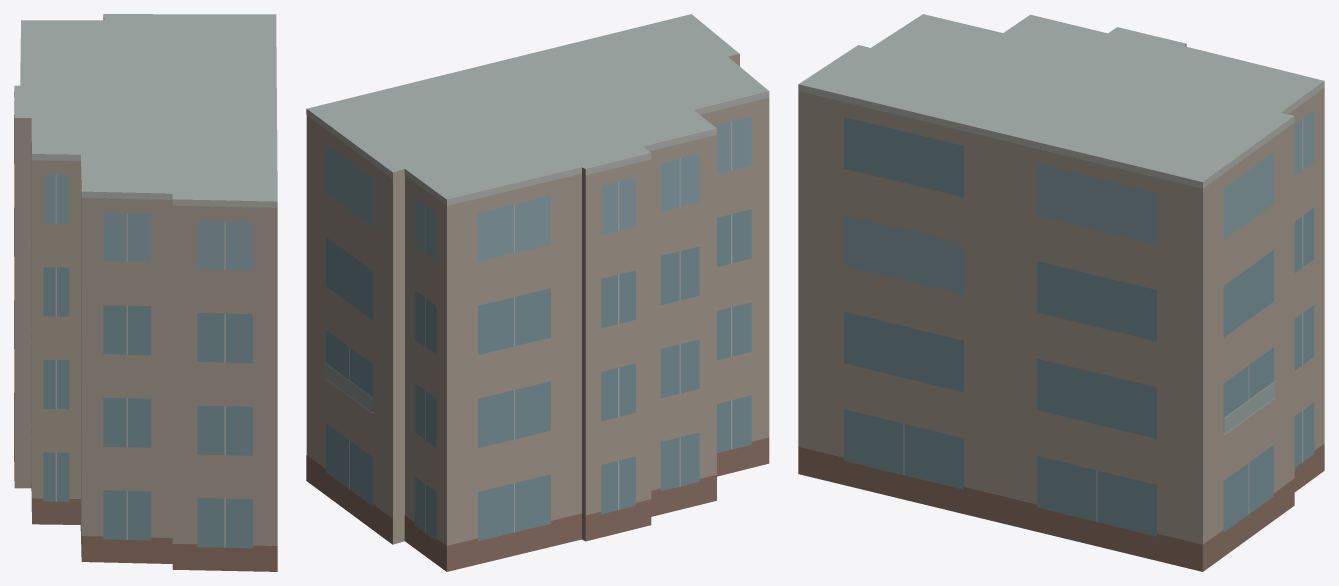
File: survey-upis-32512790.glb
3 views of the same model, side by side, from view 1: azimuth 30°, elevation 25°; view 2: azimuth 150°, elevation 25°; view 3: azimuth 270°, elevation 25° (orthographic). The views are drawn at different scales.
Visible parts, largest first — view 1: survey-upis-32512790.tmp; view 2: survey-upis-32512790.tmp; view 3: survey-upis-32512790.tmp.
Part boxes in pixels (x1,y1,x2,y2): survey-upis-32512790.tmp: (14, 14, 277, 571); survey-upis-32512790.tmp: (306, 14, 769, 571); survey-upis-32512790.tmp: (798, 14, 1324, 571).
Size of the model in its own units: 13.15 by 14.2 by 17.39.
